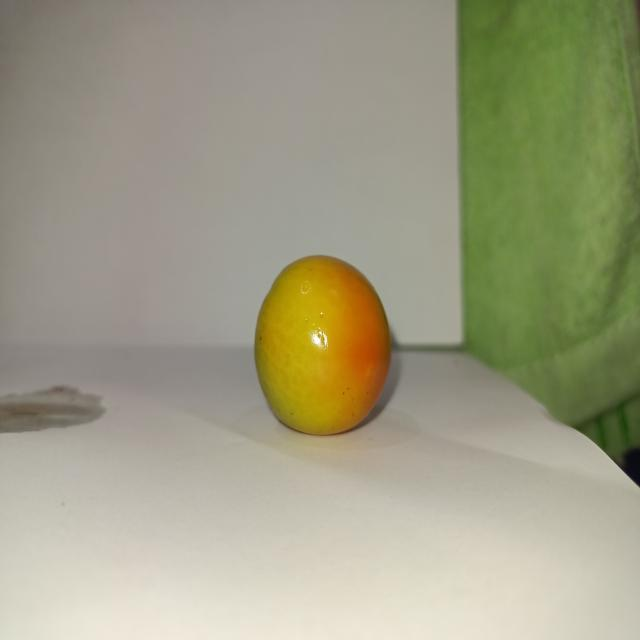Red: (252, 253, 392, 436)
